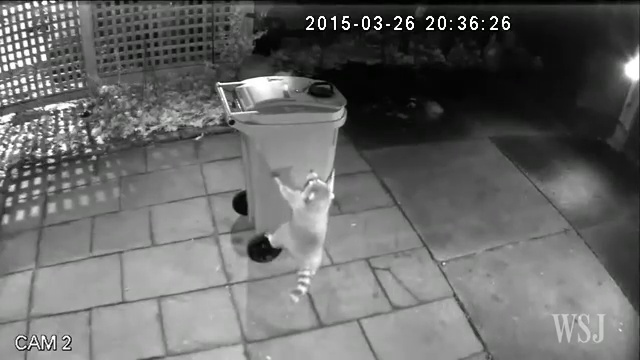raccoon: (262, 159, 338, 308)
